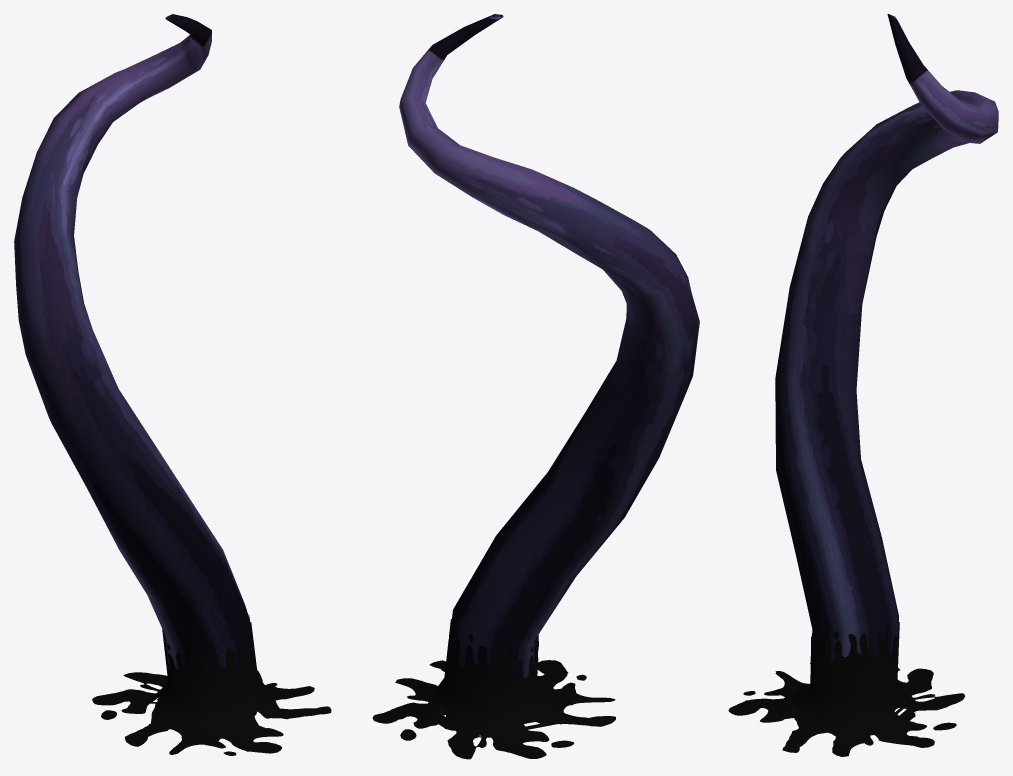
Rendered from netherlimb_0437eea8.glb.
3 views of the same model, side by side, from view 1: azimuth 30°, elevation 25°; view 2: azimuth 150°, elevation 25°; view 3: azimuth 270°, elevation 25° (orthographic). The views are drawn at different scales.
Size of the model in its own units: 3.44 by 7.62 by 2.73.
Materials: 2 (2 with a texture image).
